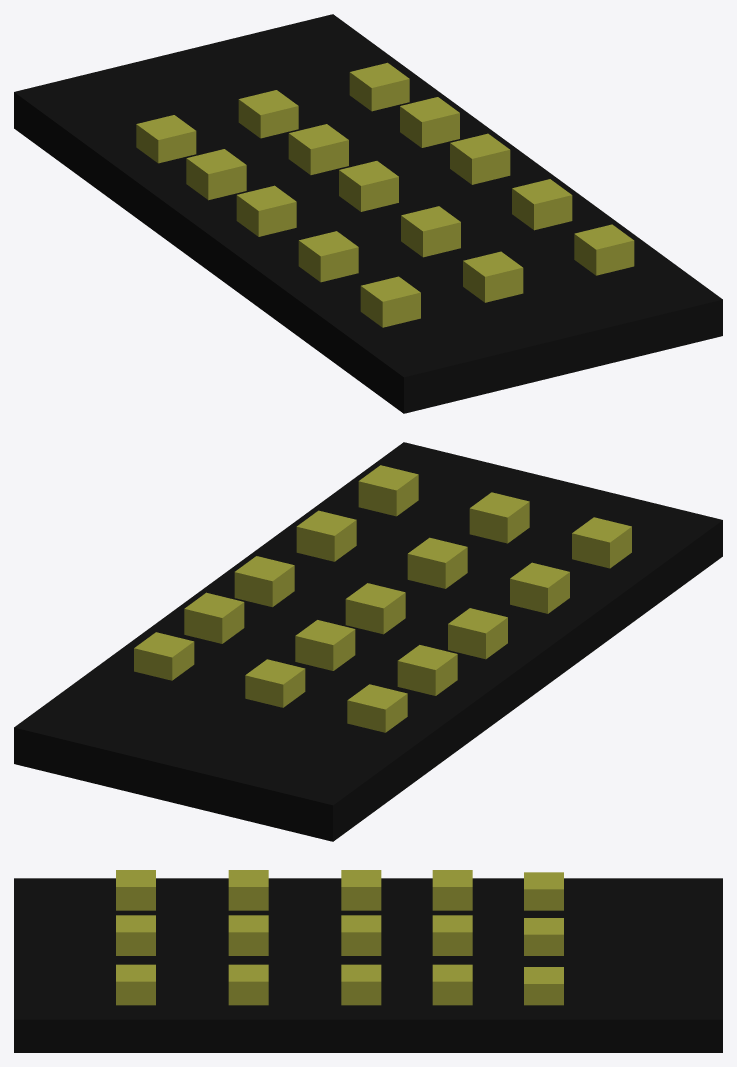
The model's file is pills.obj.
3 renders of one model, top to bottom at view 1: azimuth 30°, elevation 25°; view 2: azimuth 150°, elevation 25°; view 3: azimuth 270°, elevation 25°, orthographic. The views are drawn at different scales.
Parts seen in each view (by area): view 1: Cube, Cube.009, Cube.007, Cube.004, Cube.012, Cube.011, Cube.006, Cube.003, Cube.002, Cube.001, Cube.010, Cube.005 (+4 smaller); view 2: Cube, Cube.012, Cube.009, Cube.008, Cube.004, Cube.003, Cube.010, Cube.002, Cube.011, Cube.005, Cube.007, Cube.006 (+4 smaller); view 3: Cube, Cube.010, Cube.009, Cube.004, Cube.012, Cube.011, Cube.008, Cube.007, Cube.006, Cube.005, Cube.003, Cube.002 (+4 smaller).
Part boxes in pixels (x1,y1,x2,y2): Cube: (14,14,722,413); Cube.009: (450,133,510,184); Cube.007: (236,185,296,236); Cube.004: (512,179,572,230); Cube.012: (186,149,246,200); Cube.011: (288,124,348,174); Cube.006: (298,231,358,282); Cube.003: (574,224,634,275); Cube.002: (463,251,523,302); Cube.001: (360,276,420,327); Cube.010: (400,97,459,147); Cube.005: (401,206,460,257); Cube: (14,442,722,841); Cube.012: (397,645,457,695); Cube.009: (234,556,294,607); Cube.008: (345,583,405,634); Cube.004: (296,510,356,561); Cube.003: (358,465,418,516); Cube.010: (184,592,244,643); Cube.002: (469,492,529,543); Cube.011: (295,620,355,670); Cube.005: (407,537,467,588); Cube.007: (448,608,507,659); Cube.006: (510,562,569,613); Cube: (14,878,722,1052); Cube.010: (432,964,472,1005); Cube.009: (341,964,381,1005); Cube.004: (228,964,268,1005); Cube.012: (432,870,472,910); Cube.011: (432,915,472,955); Cube.008: (341,915,381,955); Cube.007: (341,870,381,910); Cube.006: (228,870,268,910); Cube.005: (228,915,268,955); Cube.003: (116,964,155,1005); Cube.002: (116,915,155,955).
Size of the model in its own units: 1.29 by 0.242 by 2.74.
